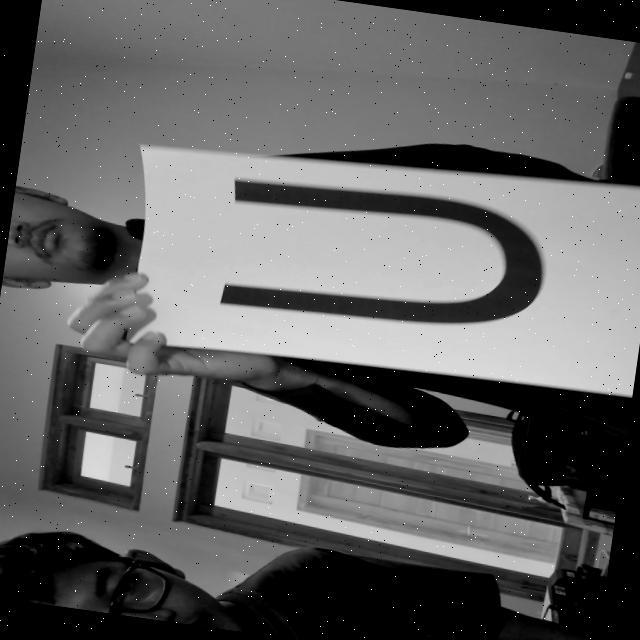u: (184, 138, 580, 368)
